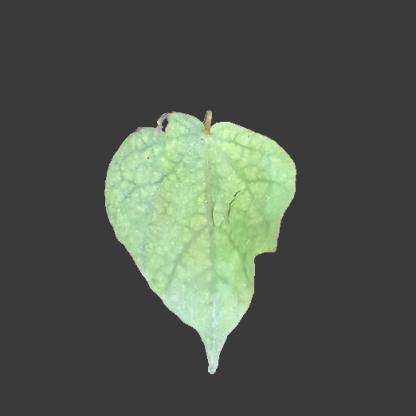curl_stage1: (127, 147, 207, 257), (169, 259, 245, 321), (209, 170, 261, 252), (215, 132, 273, 170)
